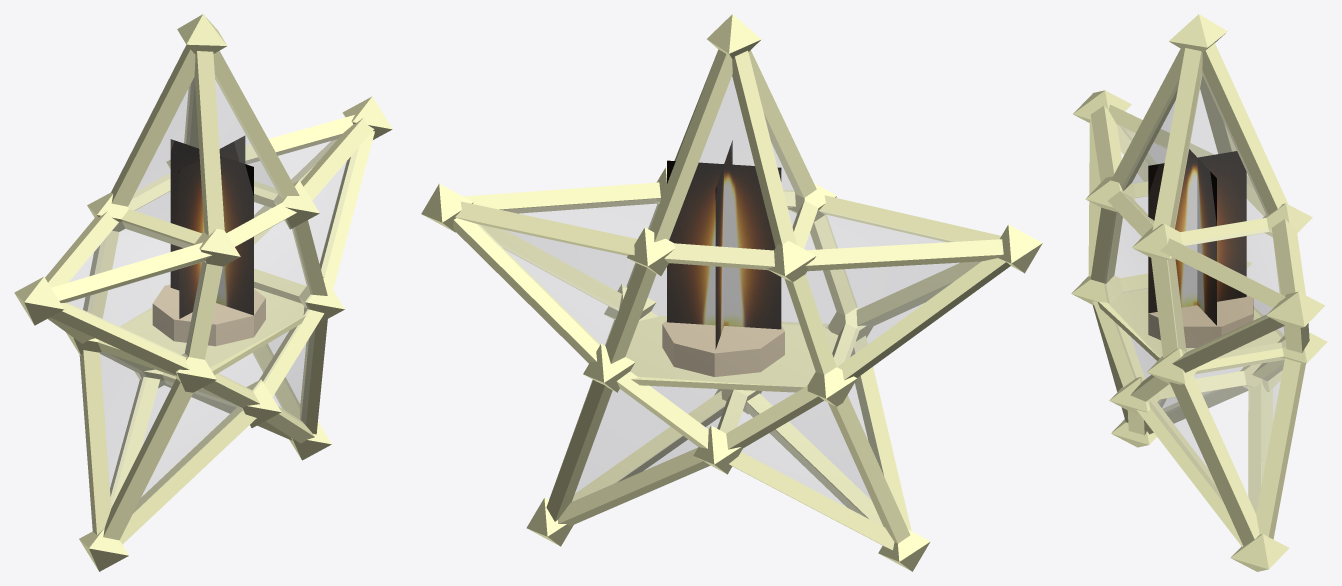
The model's file is star1.fbx.
3 renders of one model, left to right at view 1: azimuth 30°, elevation 25°; view 2: azimuth 150°, elevation 25°; view 3: azimuth 270°, elevation 25°, orthographic. The views are drawn at different scales.
Parts seen in each view (by area): view 1: TexturesCom_Flames0001_2_S.022; view 2: TexturesCom_Flames0001_2_S.022; view 3: TexturesCom_Flames0001_2_S.022.
Boxes of the visible parts, x1=… form: TexturesCom_Flames0001_2_S.022: x1=14, y1=14, x2=392, y2=571; TexturesCom_Flames0001_2_S.022: x1=421, y1=14, x2=1042, y2=571; TexturesCom_Flames0001_2_S.022: x1=1071, y1=14, x2=1327, y2=571.
Bounding box in the file's own units: 189 × 195 × 90.92.
